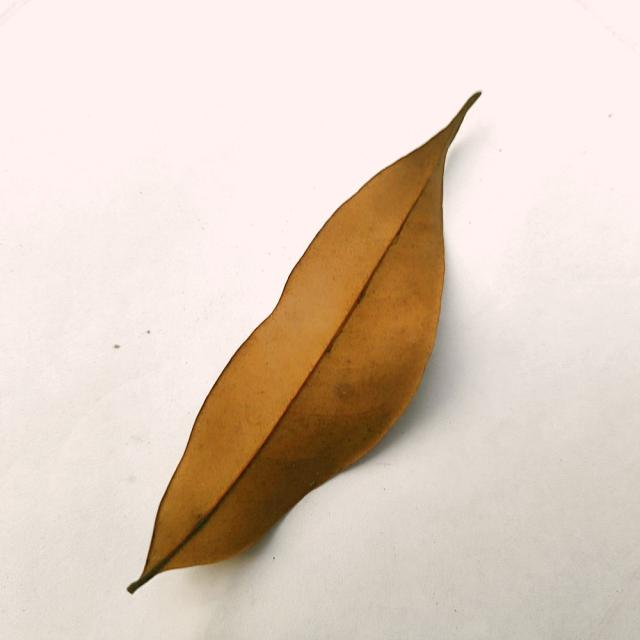Dry_Leaf-Lychee: (131, 95, 481, 592)
